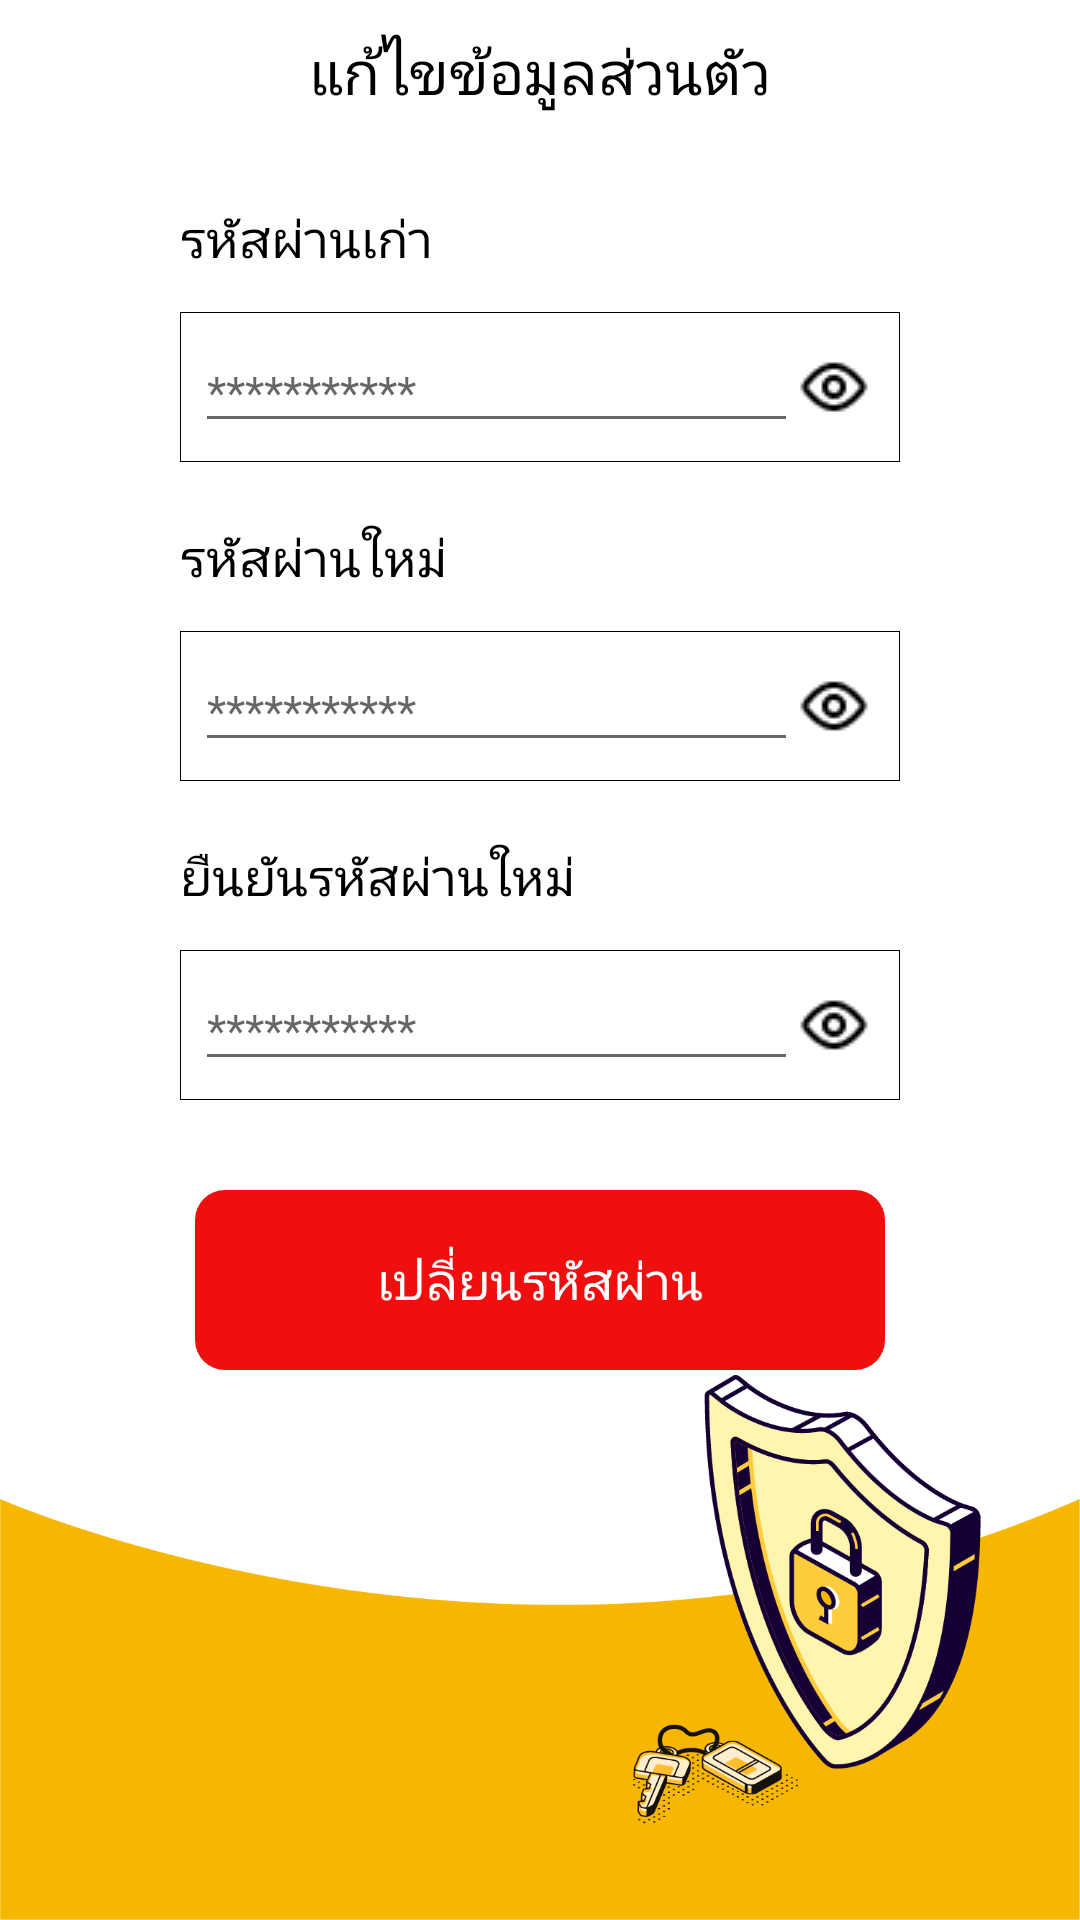

Where icons sit on this 1080×1920 app screen, as bbox=(x1, y1, x2, y2):
eye open: bbox=(800, 362, 868, 412), bbox=(800, 681, 868, 731), bbox=(800, 1000, 868, 1050)
